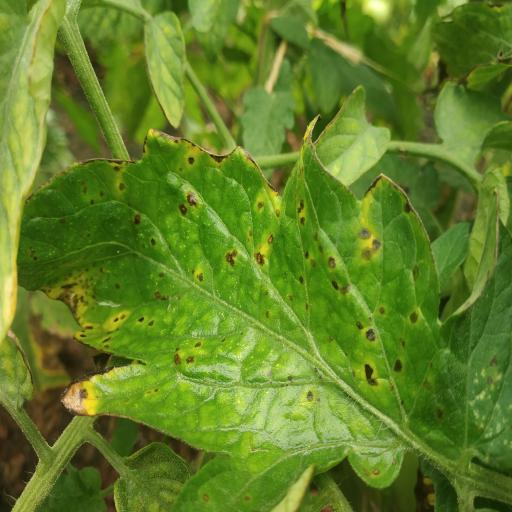Early Blight: (19, 109, 446, 512)
